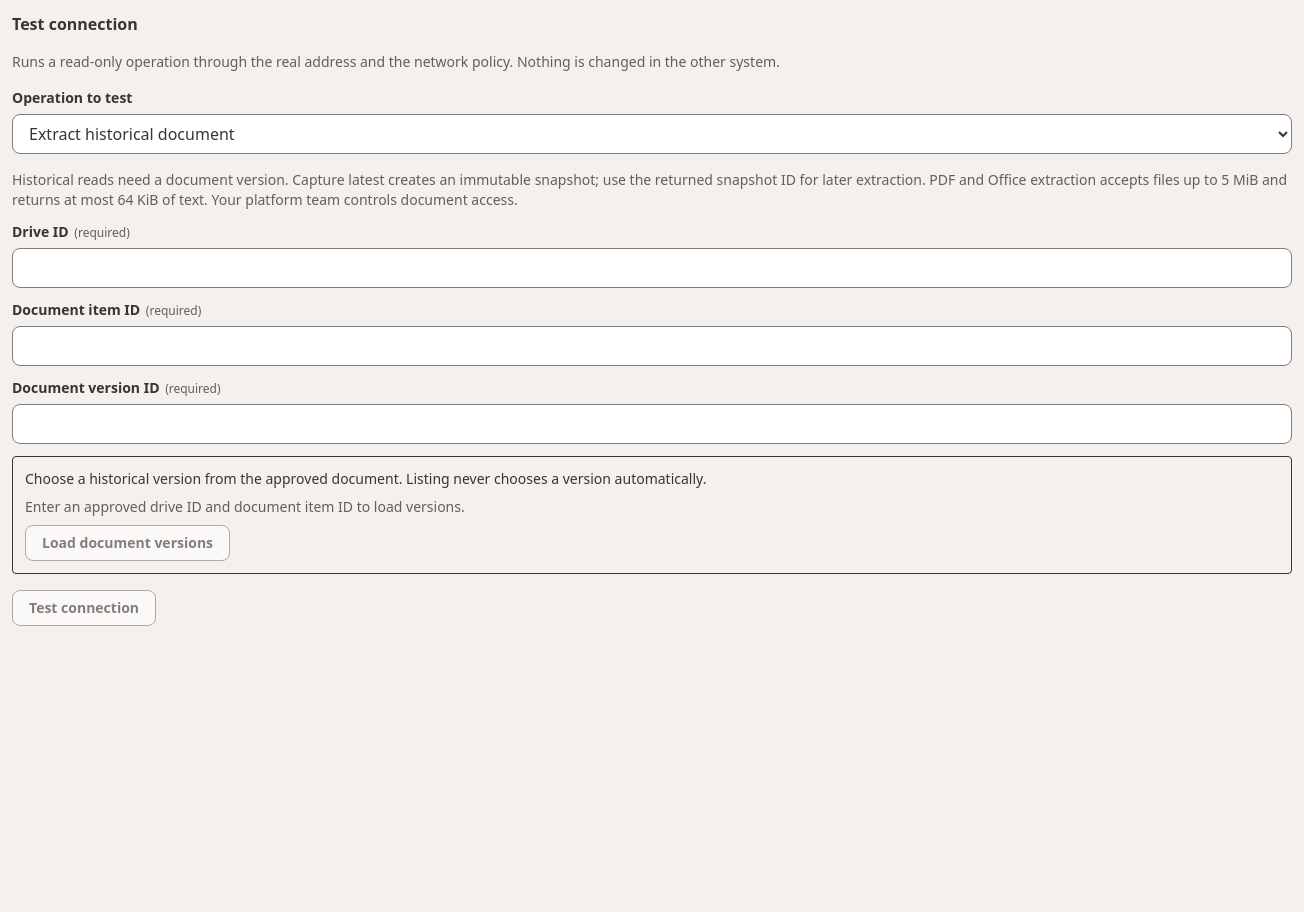
Scenario: approved document historical version picker › passes the selected historical version to extraction, clears it on document changes and never falls back
Step 1. Type "drive" into the field labelled "Drive ID (required)" → (652,268), box [12,248,1292,288]
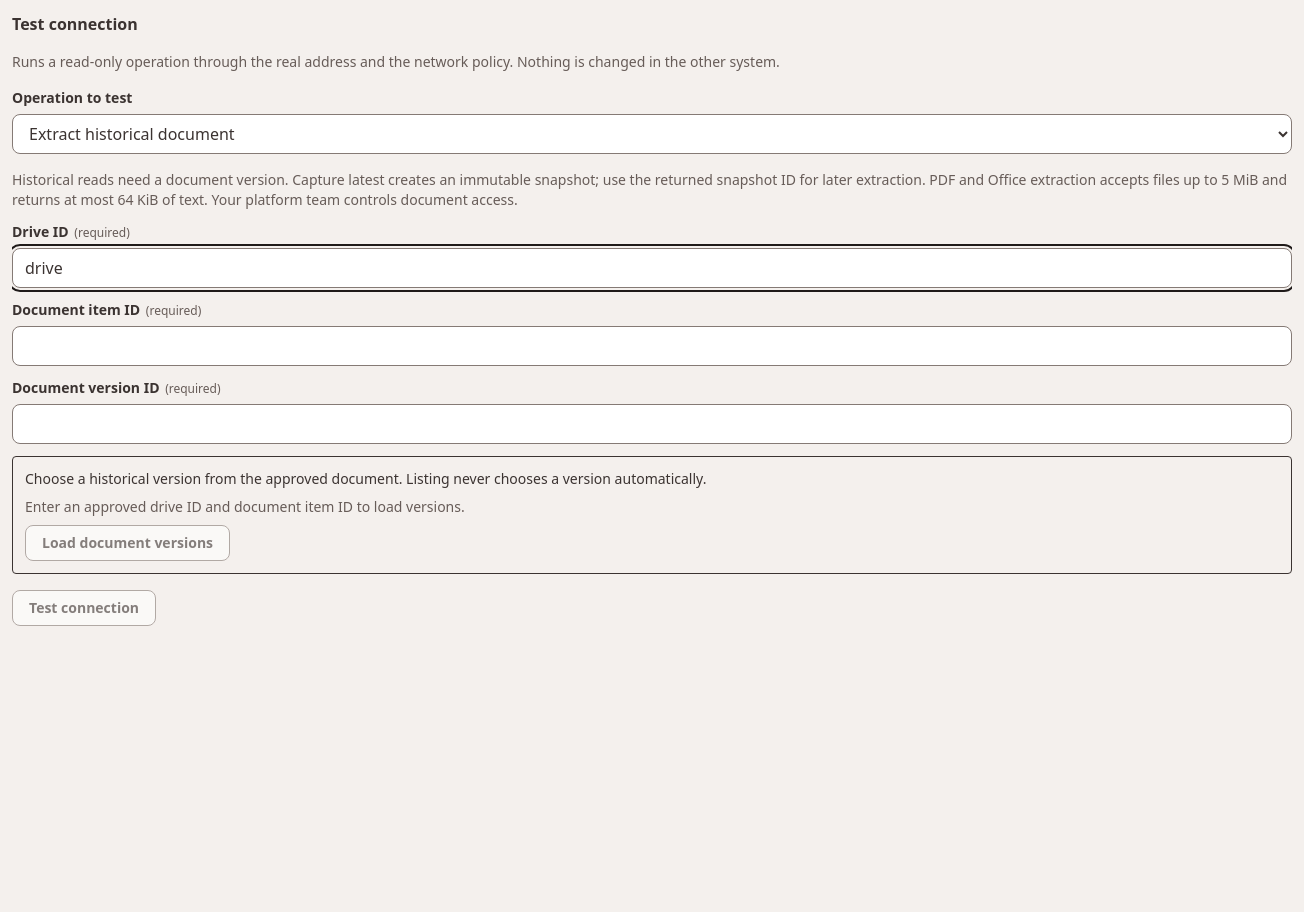
Step 2. Type "item" into the field labelled "Document item ID (required)" → (652,346), box [12,326,1292,366]
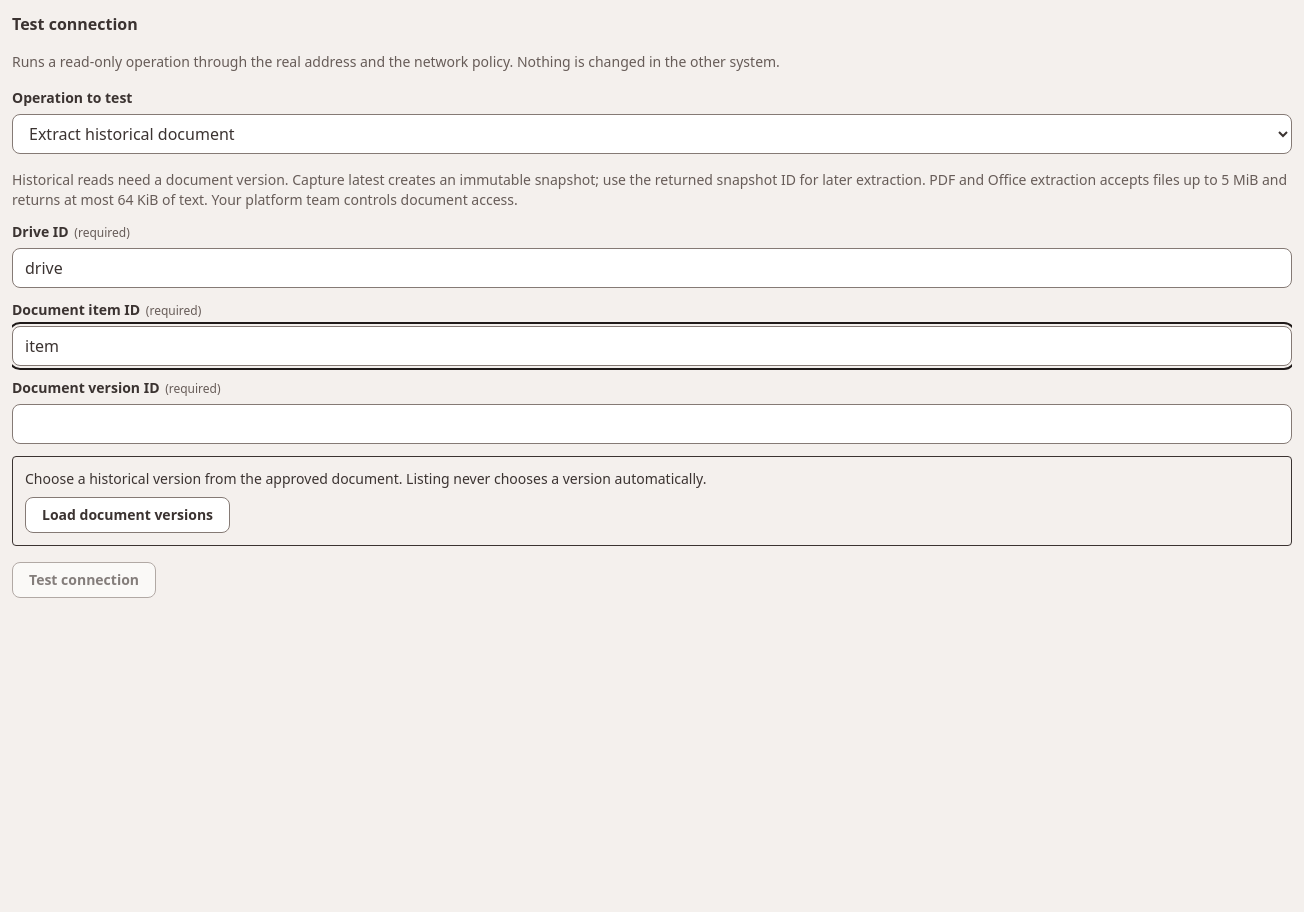
Expected: the button "Test connection" is disabled, [12,562,156,598]
Step 3. Click the button "Load document versions" → (128,515), box [25,497,230,533]
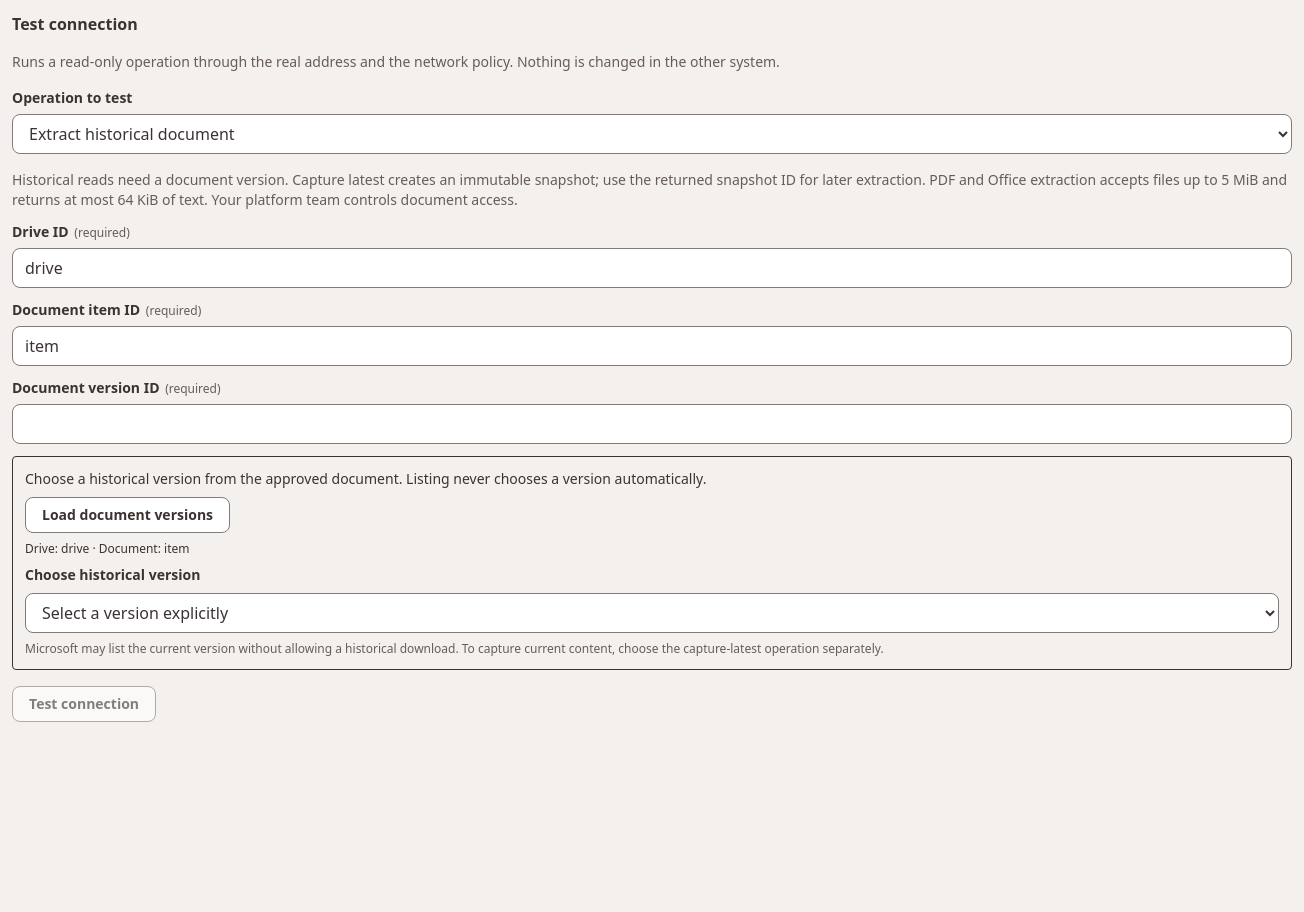
Step 4. Select "2.0 · 2026-10-09T10:00:00Z · 1100 bytes" in the dropdown labelled "Choose historical version" → (652,613), box [25,593,1279,633]
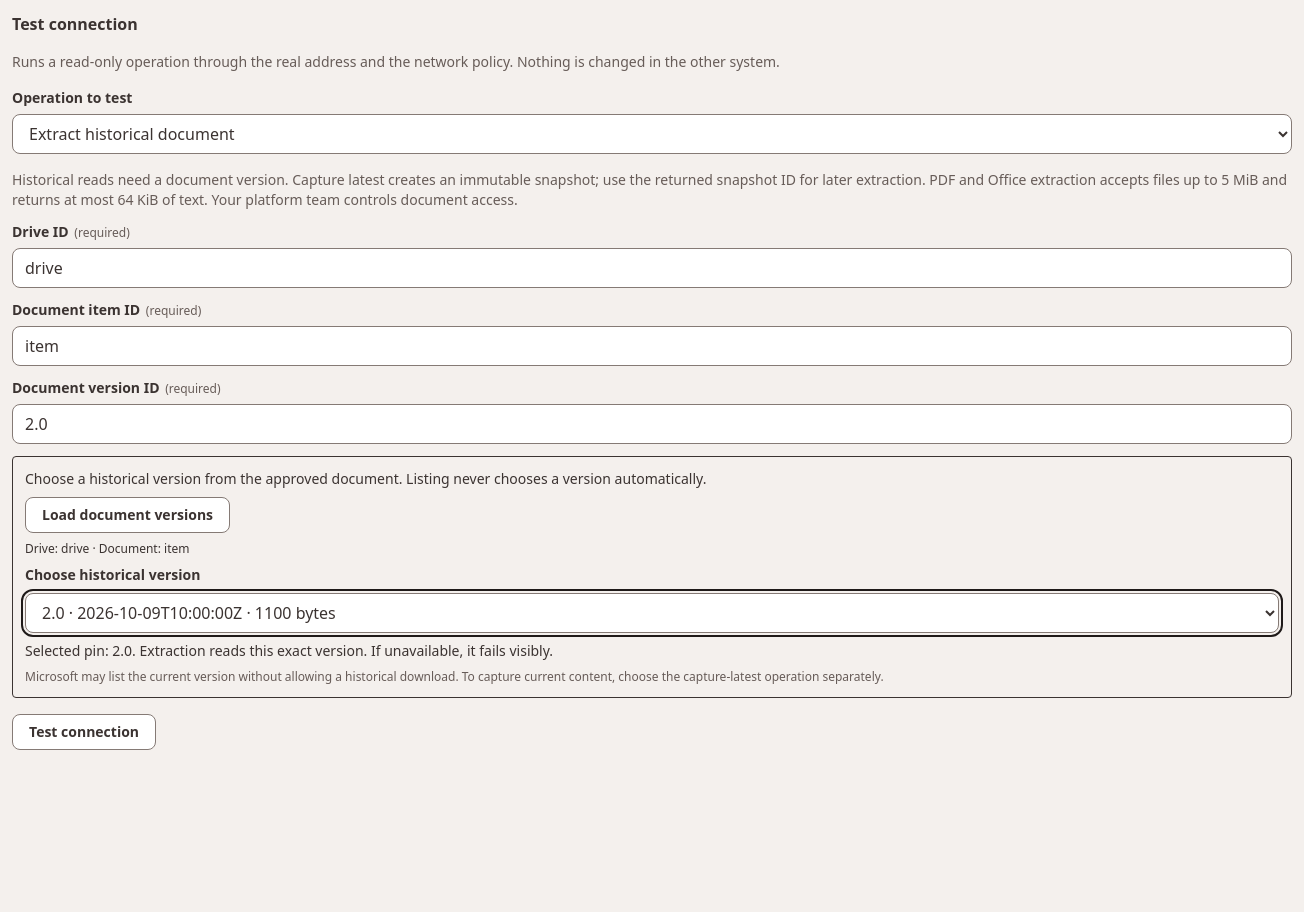
Now the field labelled "Document version ID (required)" holds "2.0", box [12,404,1292,444]
Step 5. Click the button "Test connection" → (84,732), box [12,714,156,750]
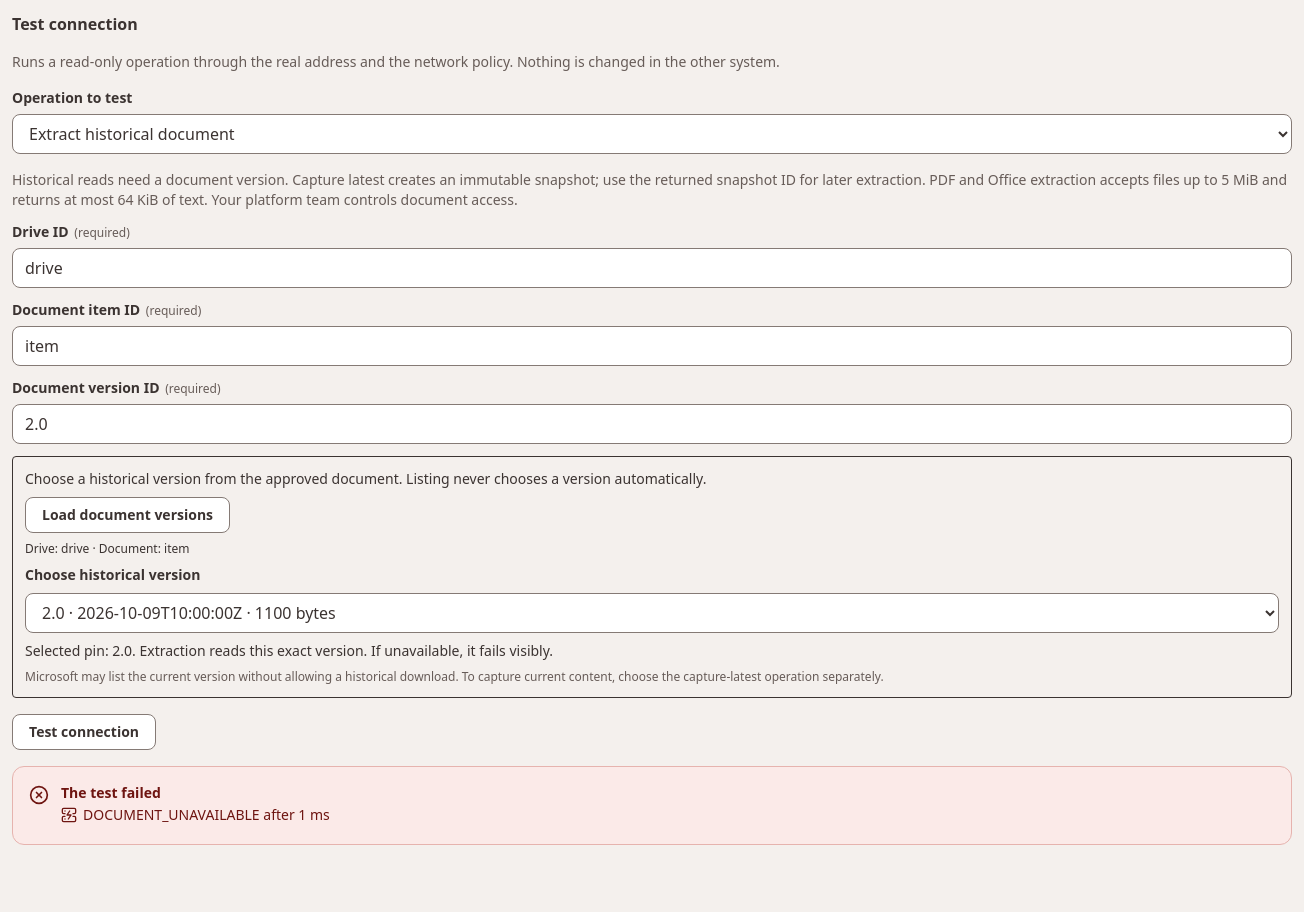
Now the text "DOCUMENT_UNAVAILABLE after 1 ms" is shown, box [61,805,330,825]
Step 6. Type "2" into the field labelled "Document item ID (required)" → (652,346), box [12,326,1292,366]
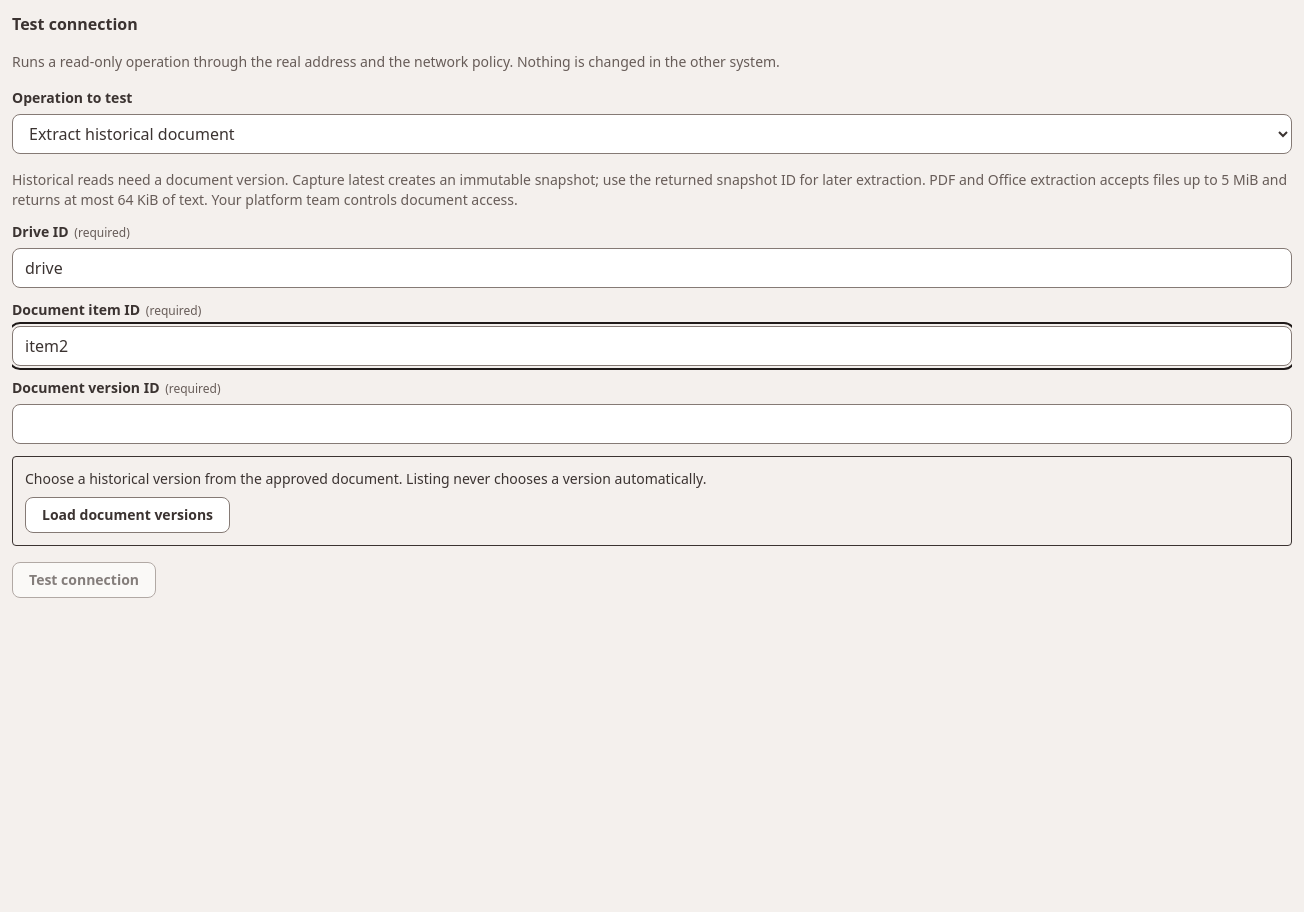
Now the field labelled "Document version ID (required)" is empty, box [12,404,1292,444]
Now the label labelled "Choose historical version" is gone
Now the button "Test connection" is disabled, box [12,562,156,598]
